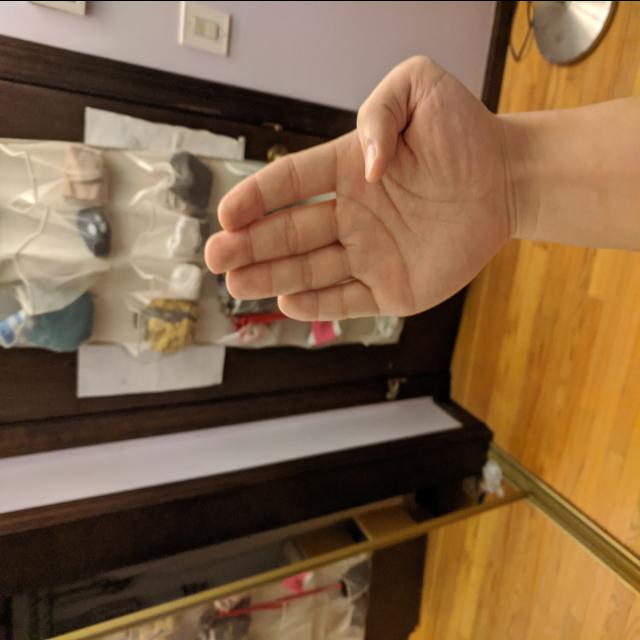B: (198, 45, 514, 331)
